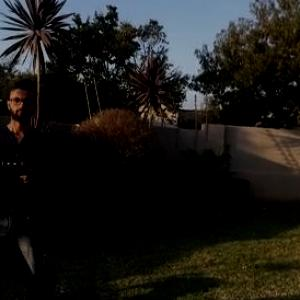follow: (0, 74, 64, 299)
